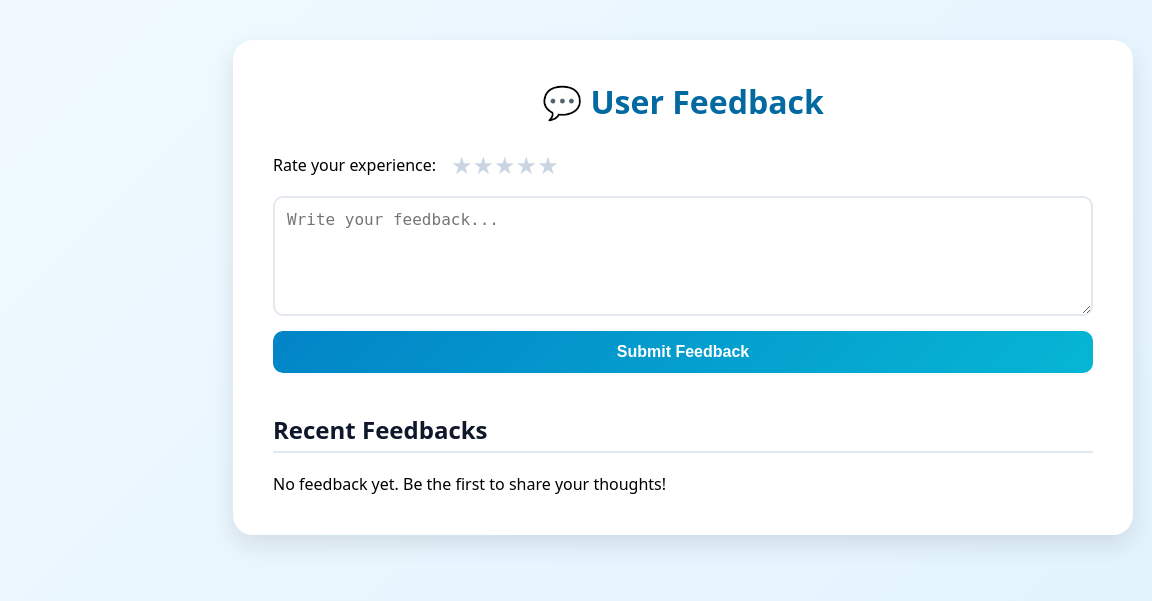
Test case: Feedback › the form › reports a rejected submission
The image size is (1152, 601).
Step 1. Click the 3rd button "★" → (505, 164), box [494, 148, 516, 181]
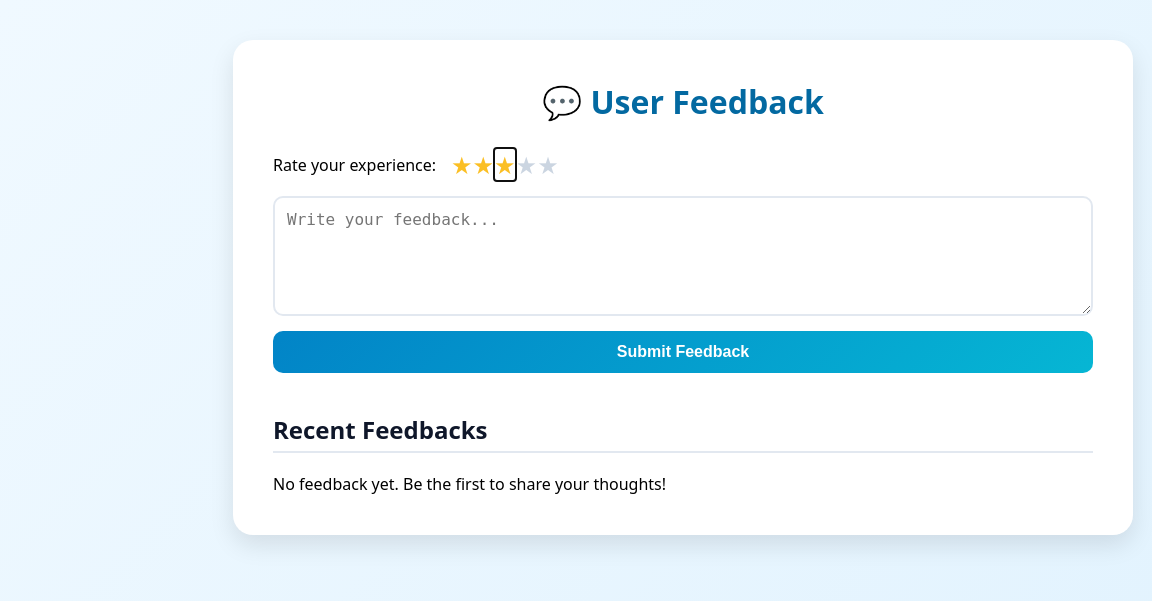
Step 2. Type "Hmm" into the text box with placeholder "Write your feedback..." → (683, 256), box [273, 196, 1093, 316]
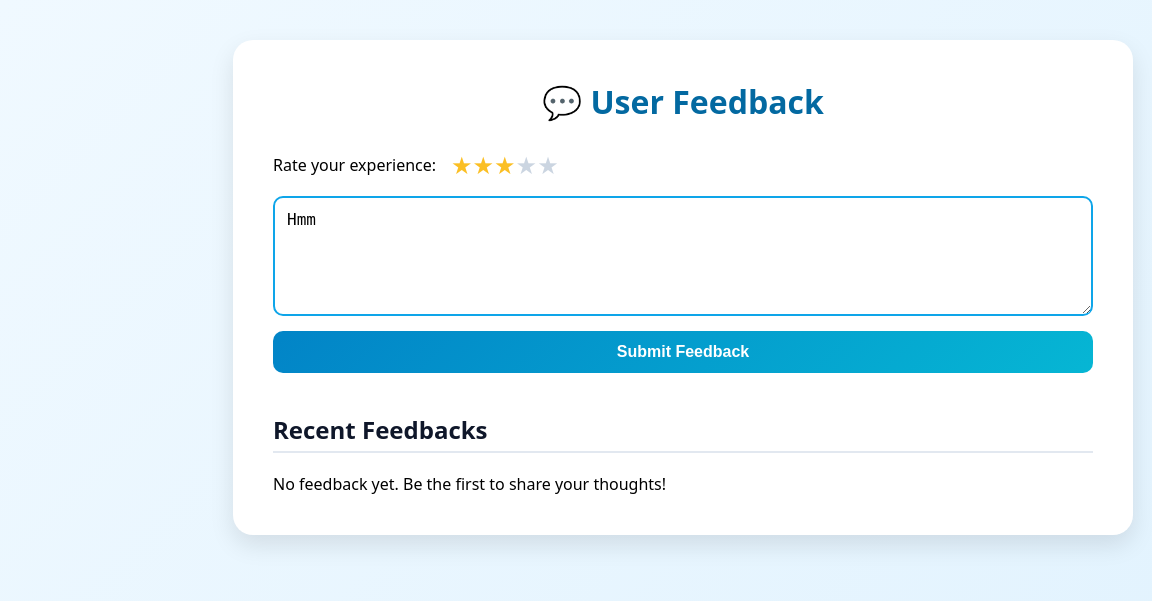
Step 3. Click the button "Submit Feedback" → (683, 352), box [273, 331, 1093, 373]
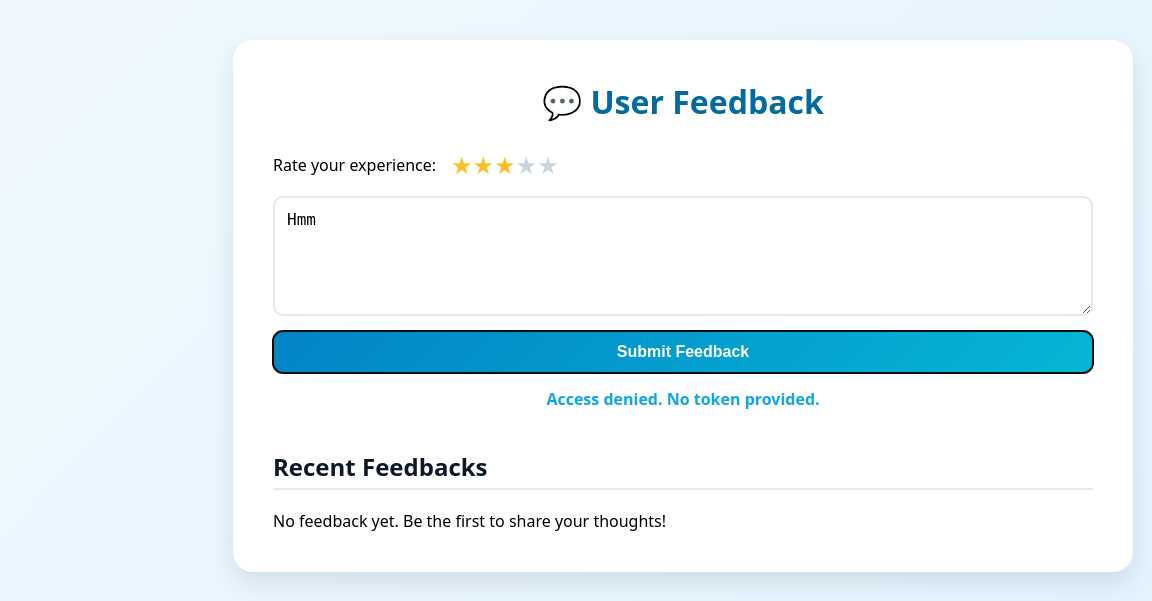
Now the text "Access denied. No token provided." is shown, box [546, 388, 820, 410]
